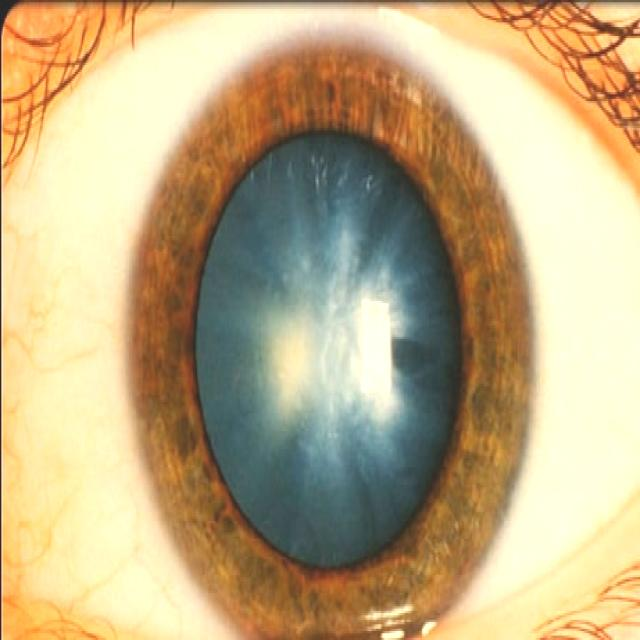Cataract: (101, 51, 556, 610)
